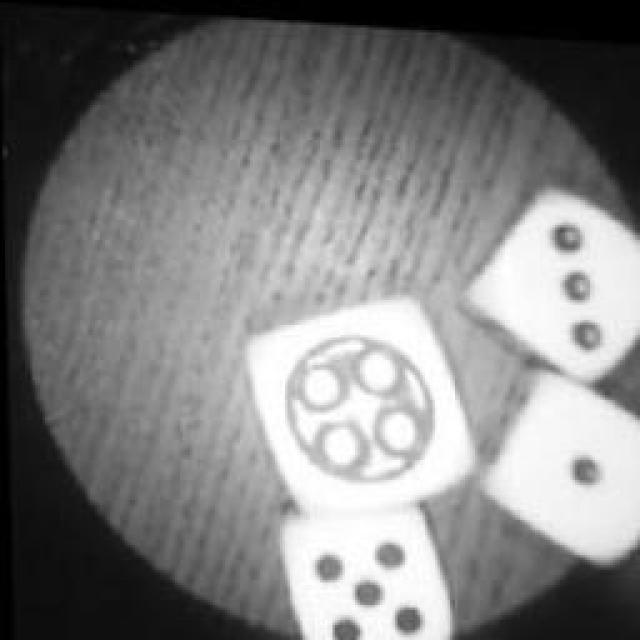dice_1: (474, 361, 638, 574)
dice_3: (455, 168, 640, 378)
dice_5: (232, 277, 482, 515), (270, 485, 462, 640)
